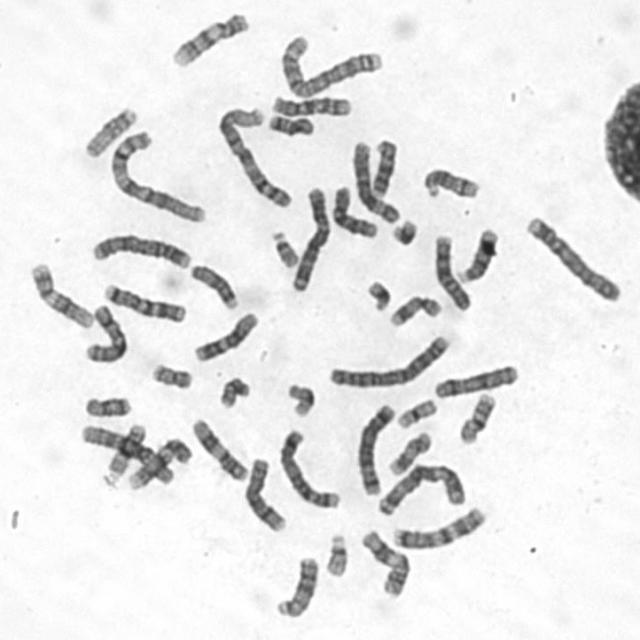A1: (105, 127, 208, 226), (213, 102, 294, 210)
A2: (324, 330, 452, 390), (276, 30, 384, 100)
A3: (372, 458, 467, 518), (286, 181, 332, 294)
B4: (521, 212, 623, 304), (87, 229, 192, 270)
B5: (275, 426, 342, 510), (352, 399, 397, 497)
C10: (328, 182, 379, 240), (266, 91, 354, 119)
C11: (187, 414, 250, 484), (358, 526, 412, 599)
C12: (25, 258, 95, 330), (188, 307, 260, 363)
C6: (76, 421, 176, 487), (348, 136, 402, 225)
C7: (387, 502, 488, 551), (98, 278, 188, 324)
C8: (240, 453, 288, 534), (433, 232, 474, 315)
C9: (167, 7, 251, 69), (124, 434, 194, 491)
D13: (270, 550, 320, 620), (453, 223, 500, 284)
D14: (418, 163, 482, 202), (366, 138, 400, 207)
D15: (80, 102, 140, 160), (186, 260, 240, 311)
E16: (102, 418, 149, 484), (455, 388, 497, 446)
E17: (384, 427, 433, 478), (385, 291, 443, 330)
E18: (263, 110, 316, 139), (80, 391, 133, 419)
F19: (392, 394, 439, 431), (282, 379, 317, 419)
F20: (146, 358, 194, 391), (214, 372, 252, 410)
G21: (362, 276, 392, 313), (386, 215, 419, 248)
G22: (267, 226, 300, 270), (320, 529, 349, 579)
X: (429, 360, 520, 400), (80, 300, 128, 365)
